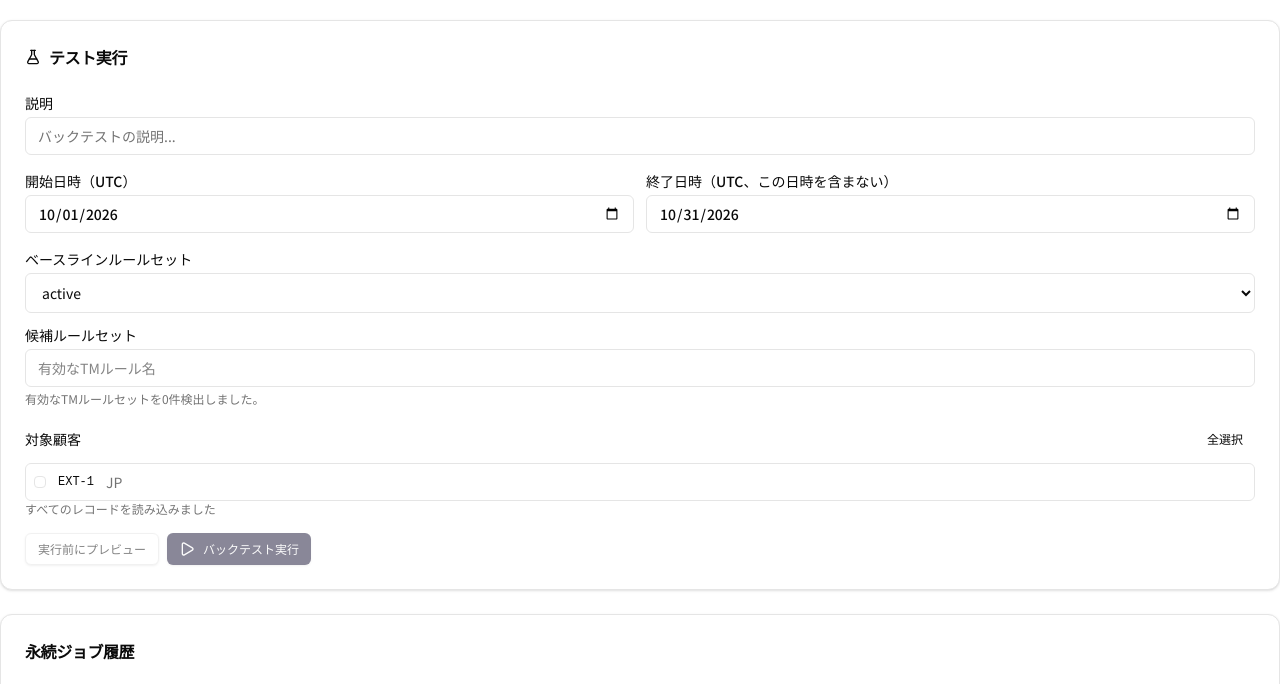
an empty cohort is warned about before any job is created
Step 1. Click the button "EXT-1 JP" → click(76, 482), box [25,463,1255,501]
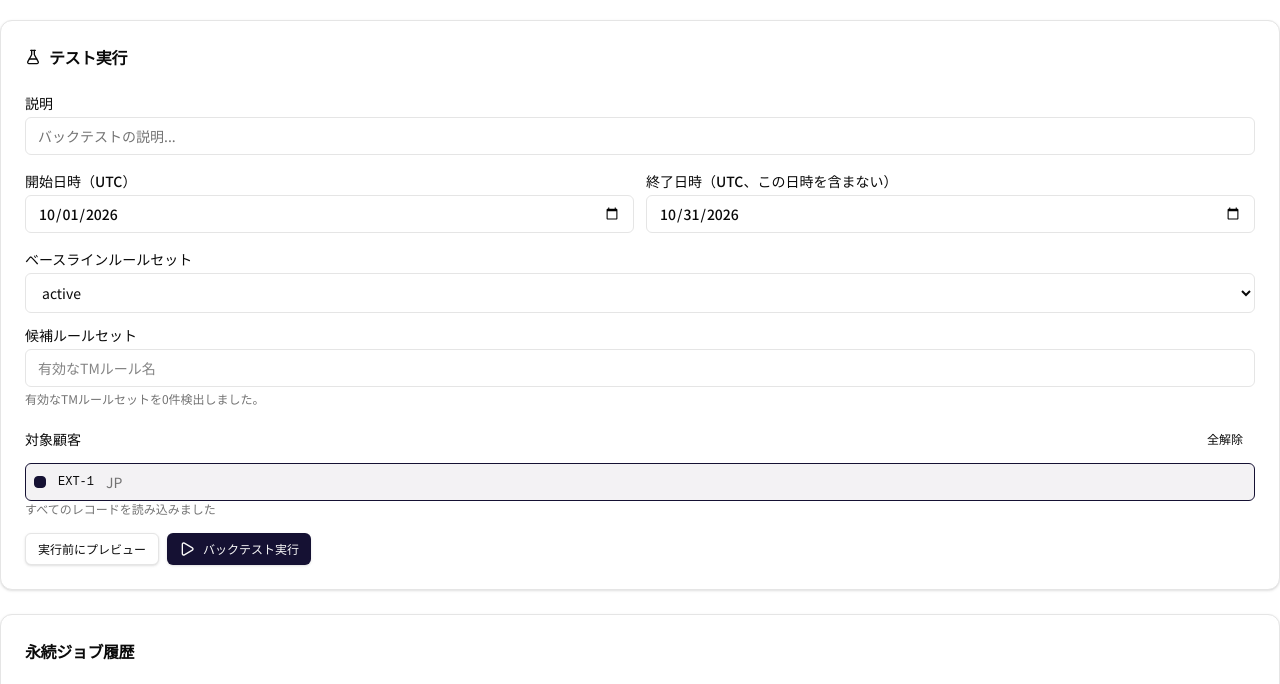
Step 2. Click the button with test id "backtest-preview-cohort" → click(92, 549), box [25,533,159,565]
(page scrolled)
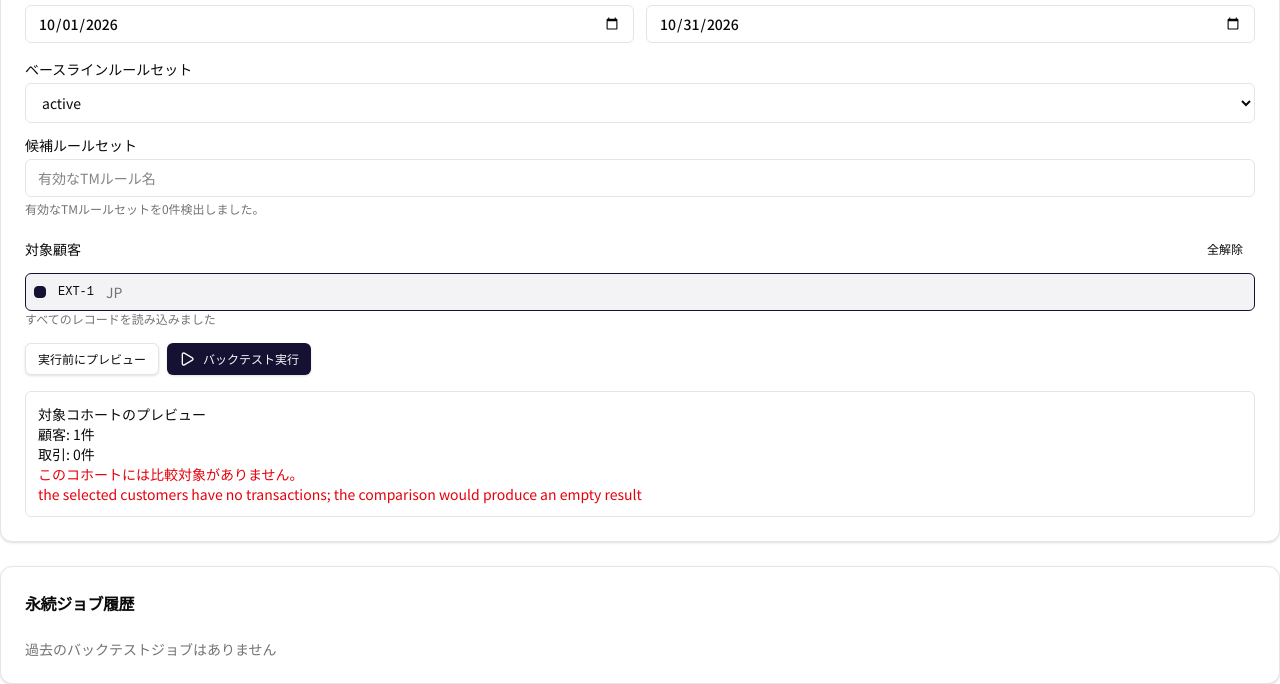
Now the element with test id "backtest-cohort-preview" shows "取引: 0件", box [38,444,95,464]
Now the element with test id "backtest-cohort-preview" shows "比較対象がありません", box [38,464,304,484]
